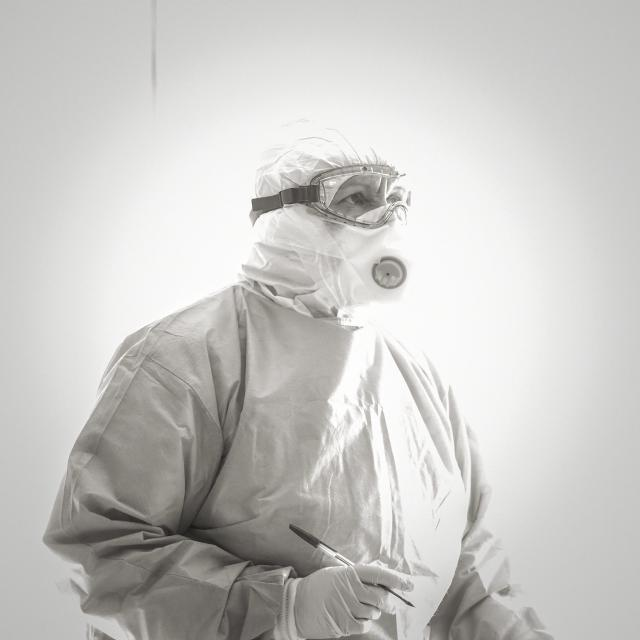Gloves: (277, 561, 426, 640)
Goggles: (310, 162, 419, 231)
Mask: (339, 228, 411, 318)
